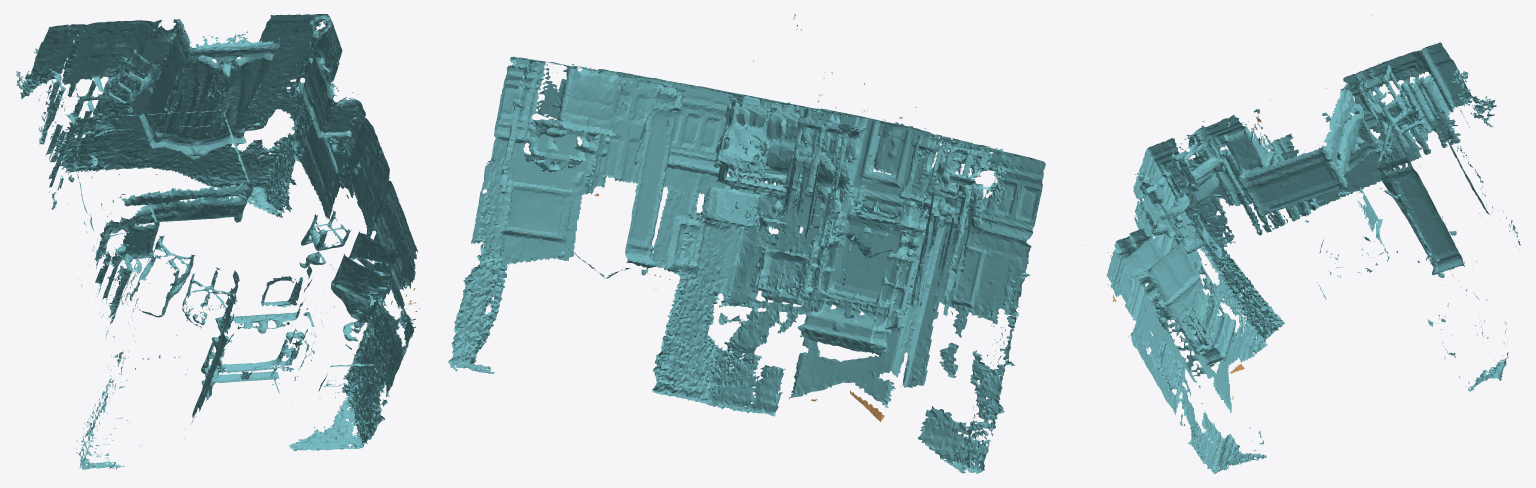
The model's file is geometry-source-mask.glb.
The picture shows the model from 3 angles, left to right: view 1: azimuth 30°, elevation 25°; view 2: azimuth 150°, elevation 25°; view 3: azimuth 270°, elevation 25°; orthographic projection. The views are drawn at different scales.
Visible parts, largest first — view 1: world; view 2: world; view 3: world.
Boxes of the visible parts, left/top/right/bottom form: world: left=16, top=14, right=419, bottom=469; world: left=448, top=14, right=1045, bottom=473; world: left=1085, top=14, right=1520, bottom=473.
Size of the model in its own units: 5.99 by 6.55 by 7.36.
